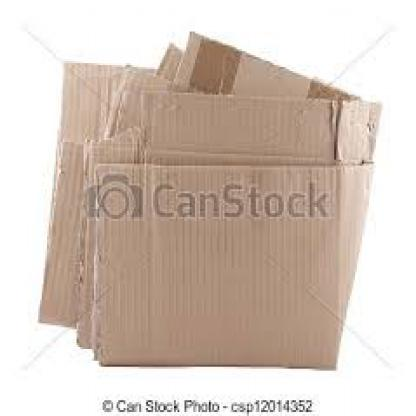CARDBOARD: (75, 136, 365, 347), (89, 160, 371, 368), (40, 59, 148, 325), (103, 83, 380, 169), (150, 30, 357, 98)
